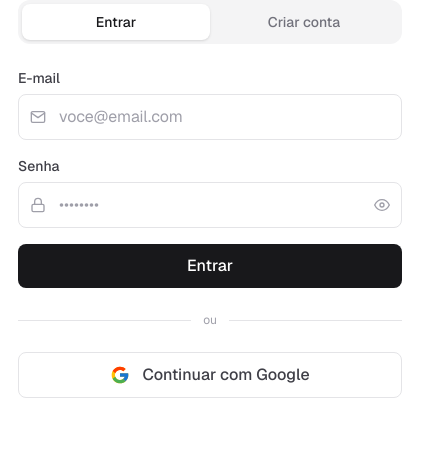
Test: AuthForm — modo Entrar (padrão) › should show error message when login fails
The width and height of the screenshot is (421, 469).
Step 1. Type "test@test.com" into the field labelled "E-mail" → (210, 117), box [18,94,402,140]
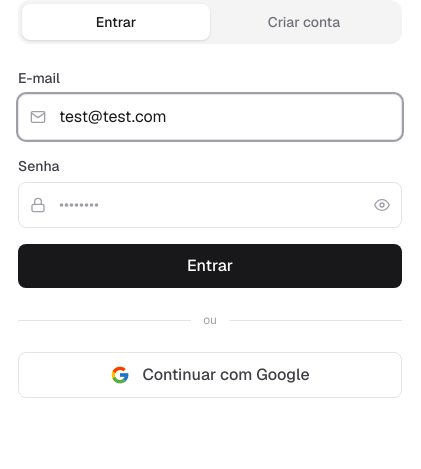
Step 2. Type "errada" into the password field labelled "Senha" → (210, 205), box [18,182,402,228]
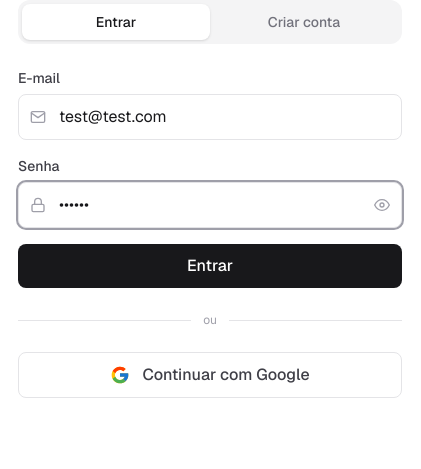
Step 3. Click the button "Entrar" → (210, 266), box [18,244,402,288]
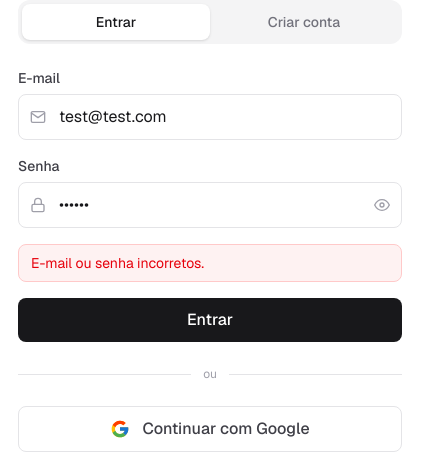
Expected: the message "E-mail ou senha incorretos." is shown, [18,244,402,282]
